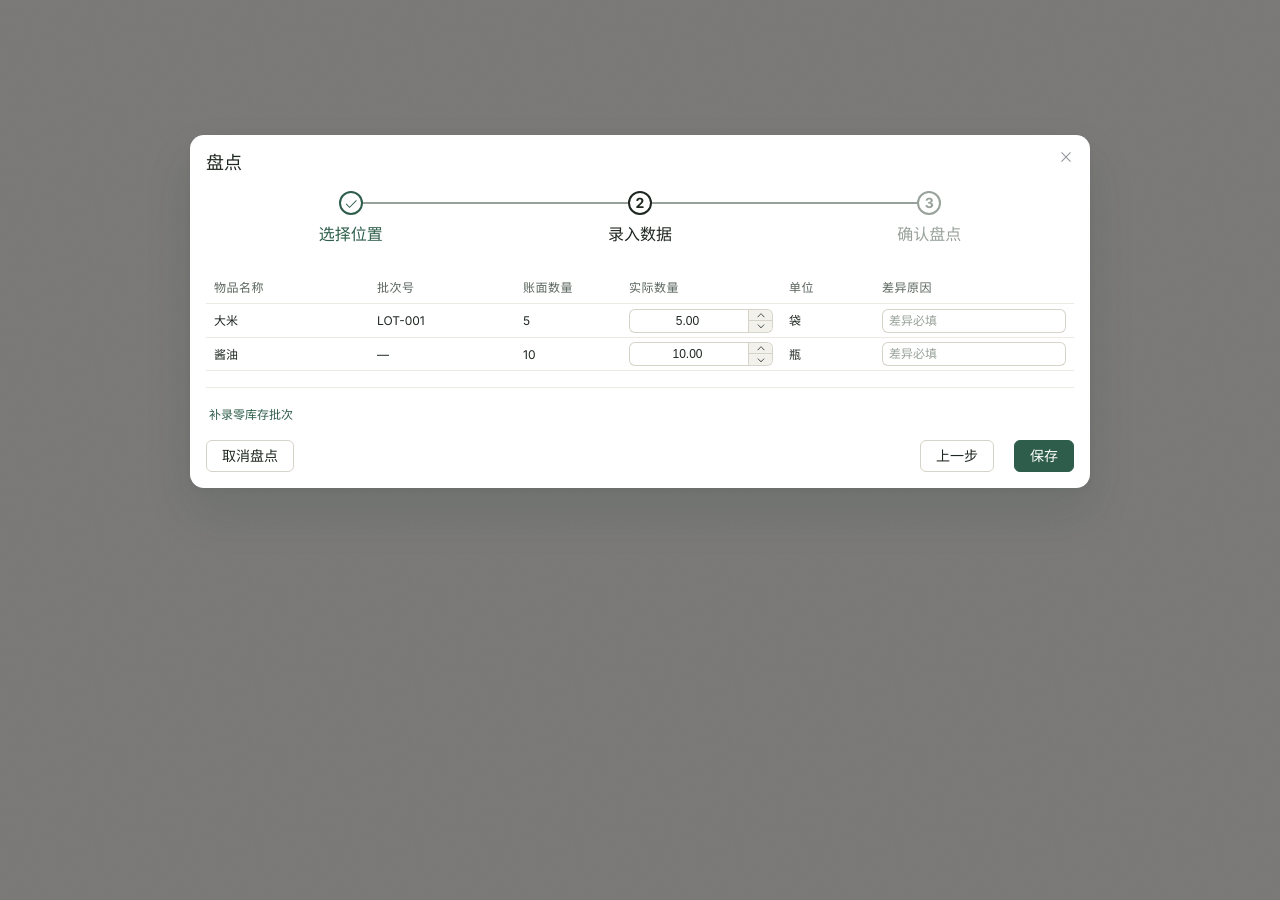
Test: StocktakeDialog › shows stale alert and refresh button when stocktake is stale
The image size is (1280, 900).
Save to trigger stale
Click the button "保存" at (1044, 456), box [1014, 440, 1074, 472]
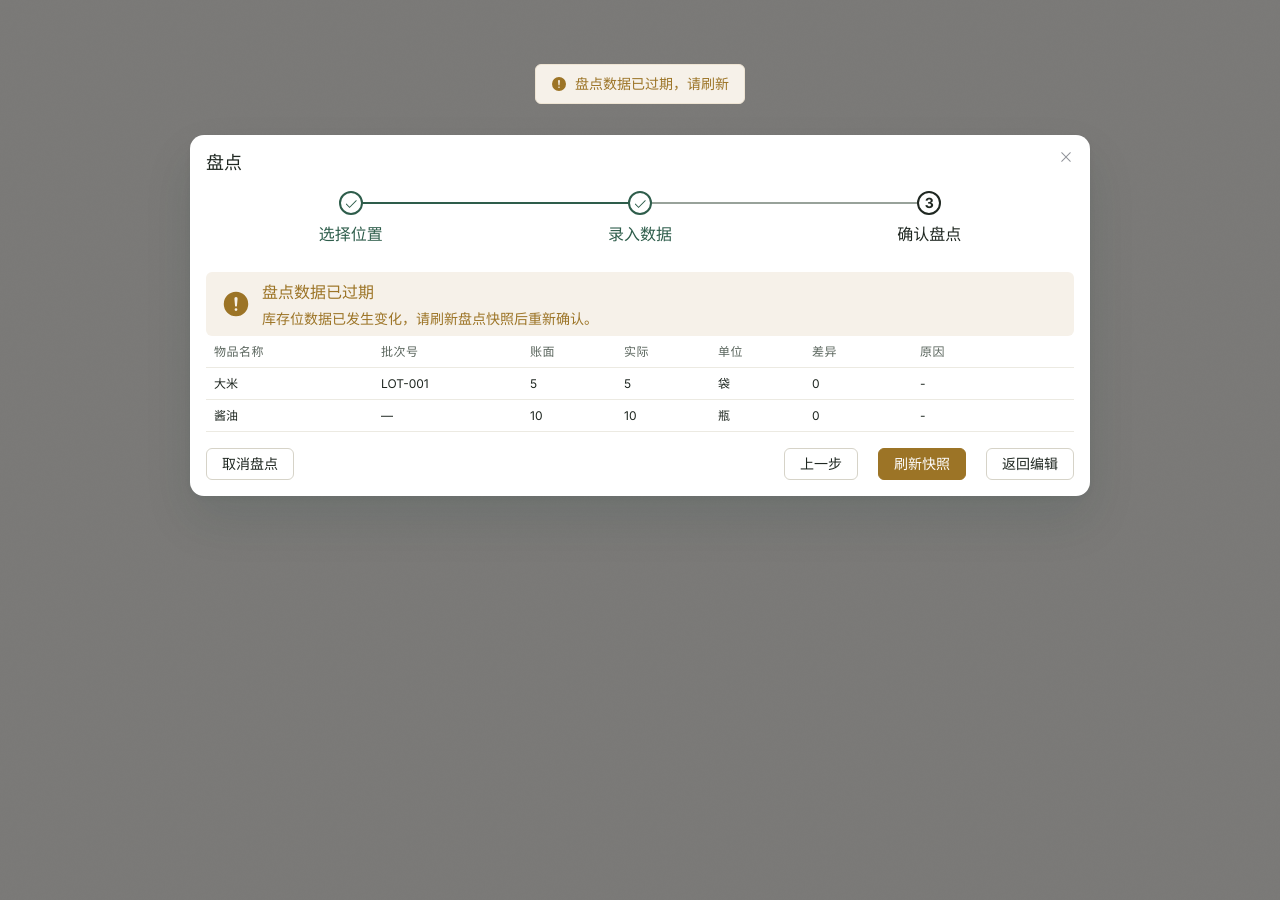
Now the text "盘点数据已过期" is shown, box [262, 282, 374, 302]
Now the text "刷新快照" is shown, box [894, 457, 950, 471]
